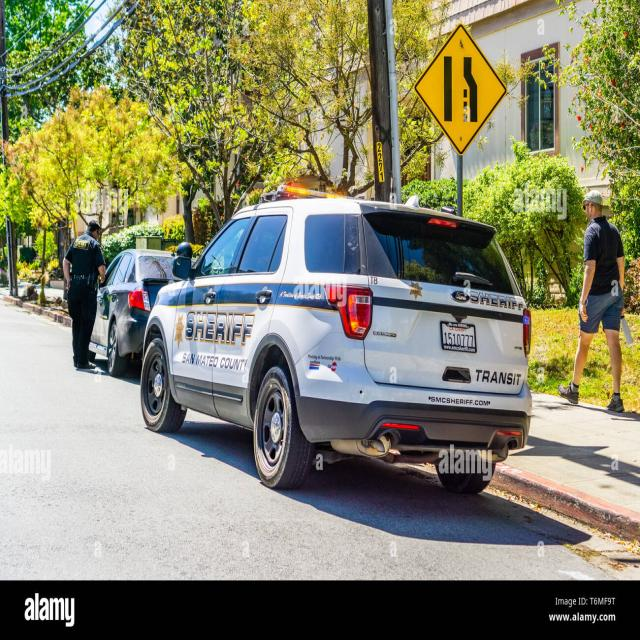cop: (140, 177, 535, 502)
